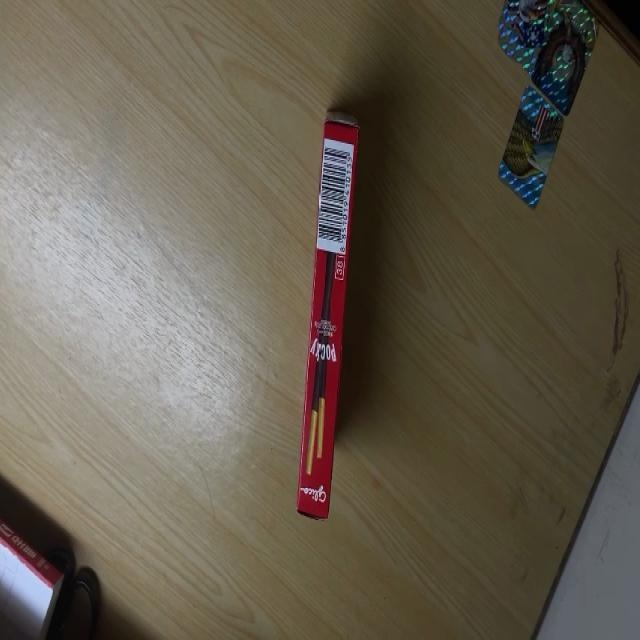Pocky: (296, 117, 360, 521)
